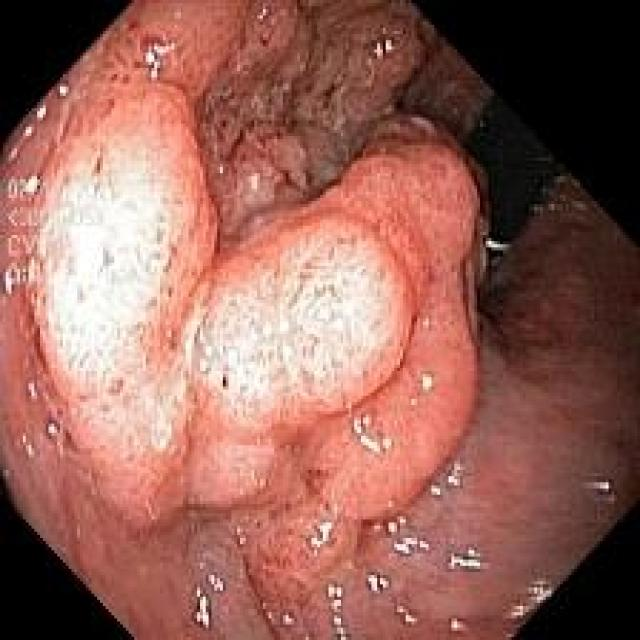Polyps: (180, 141, 485, 638), (34, 81, 216, 526), (191, 214, 412, 506), (210, 126, 308, 240), (334, 1, 422, 87), (218, 1, 299, 82)
